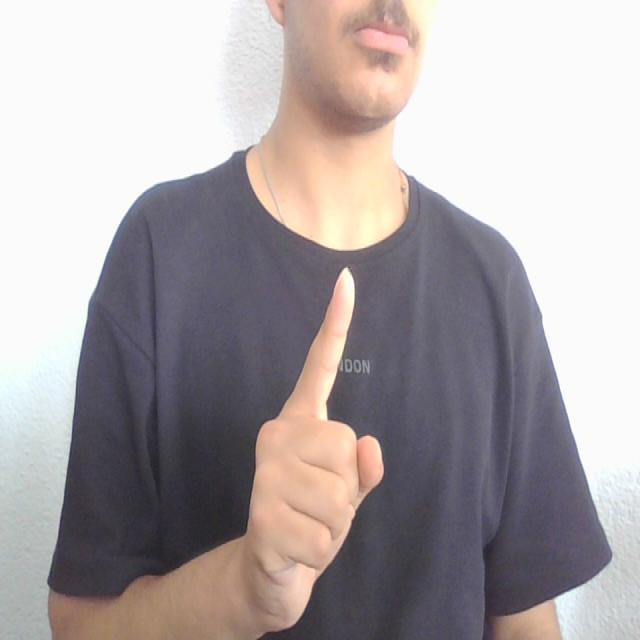Hayir: (243, 258, 413, 640)
